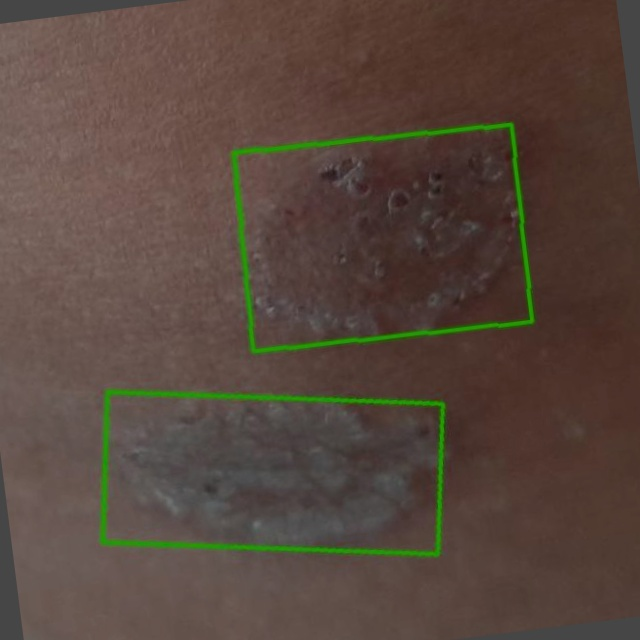Tinea Corporis: (233, 124, 532, 351), (102, 393, 443, 554)
